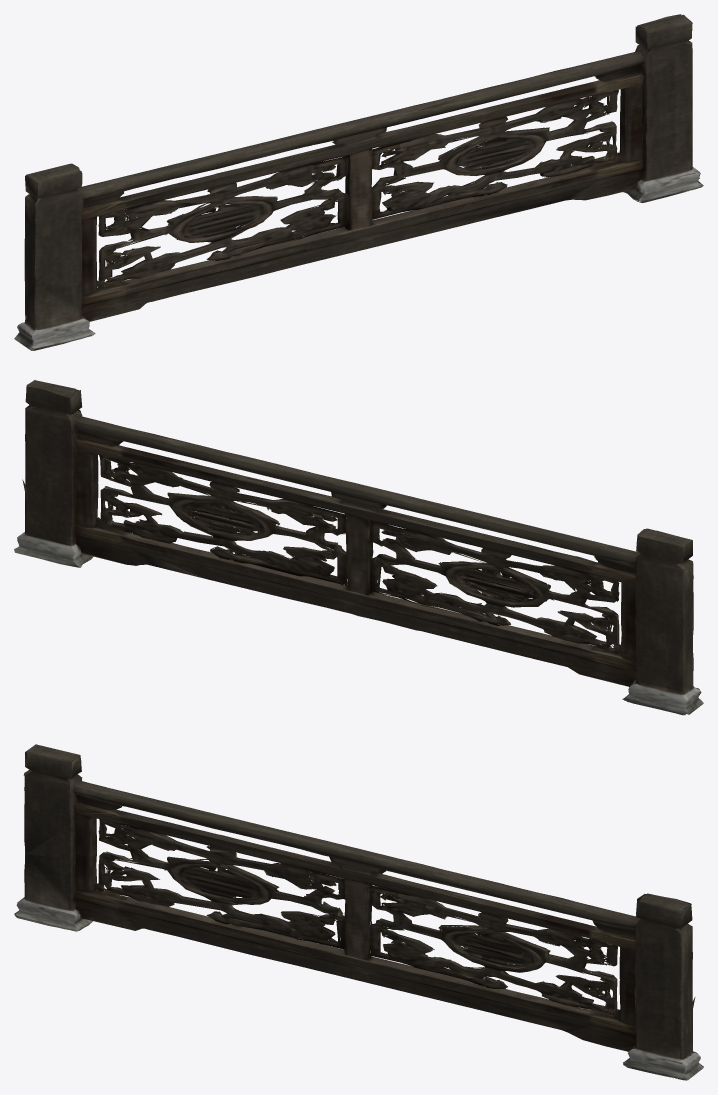
File: ghost-carved-railing-lod.glb
3 renders of one model, top to bottom at view 1: azimuth 30°, elevation 25°; view 2: azimuth 150°, elevation 25°; view 3: azimuth 330°, elevation 25°, orthographic.
Parts seen in each view (by area): view 1: ghost-carved-railing_geometry_0; view 2: ghost-carved-railing_geometry_0; view 3: ghost-carved-railing_geometry_0.
Boxes of the visible parts, left/top/right/bottom form: ghost-carved-railing_geometry_0: left=14, top=14, right=703, bottom=350; ghost-carved-railing_geometry_0: left=14, top=380, right=703, bottom=715; ghost-carved-railing_geometry_0: left=14, top=744, right=703, bottom=1080.
Size of the model in its own units: 4 by 0.9535 by 0.183.
Materials: 1 (1 with a texture image).
